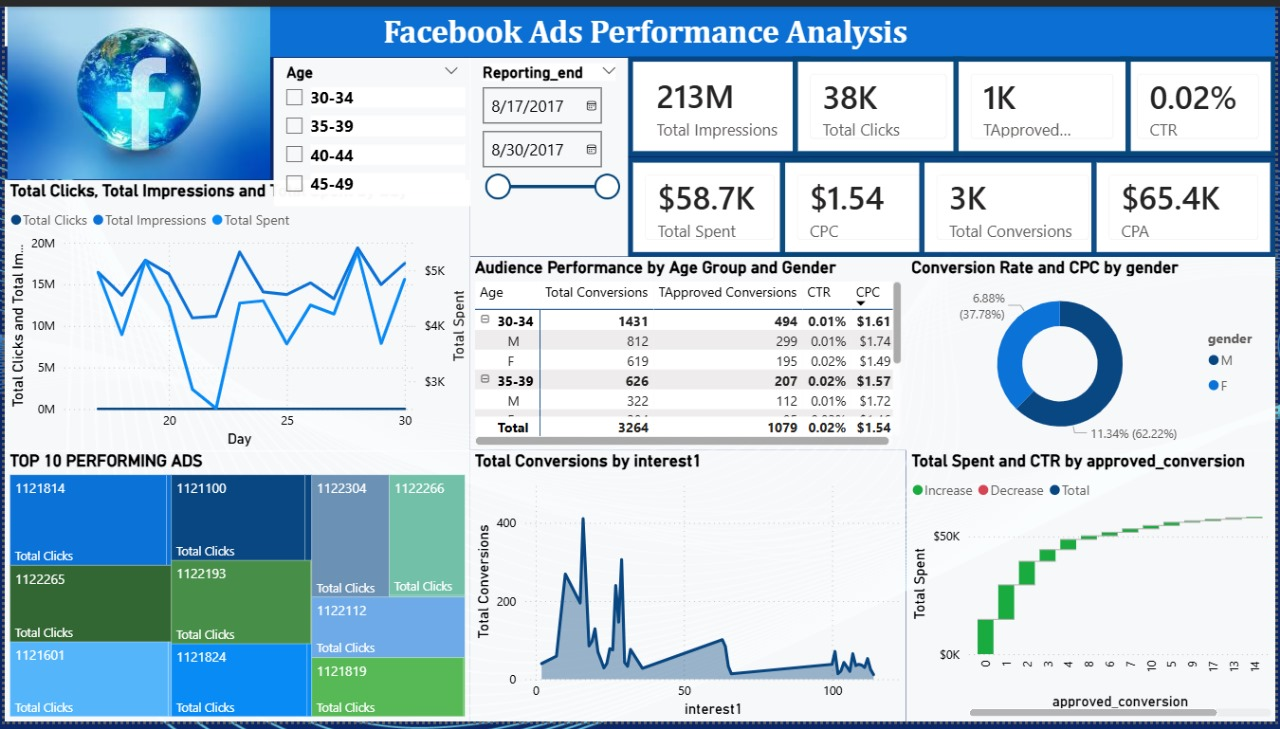

This screenshot's page, from the dashboard's own definition file:
{"tool":"powerbi","page":{"name":"Dashboard","canvas":[1280,720],"ordinal":0},"visuals":[{"type":"textbox","box":[9.8,0,1270.3,50.4],"z":0},{"type":"cardVisual","fields":{"Data":["data.Total Impressions"]},"box":[627.8,50.4,183.8,100.8],"z":1000},{"type":"cardVisual","fields":{"Data":["data.Total Clicks"]},"box":[793.8,50.4,172.4,100.8],"z":2000},{"type":"cardVisual","fields":{"Data":["data.CTR"]},"box":[1122.3,50.4,157.8,100.8],"z":3000},{"type":"cardVisual","fields":{"Data":["data.Total Spent"]},"box":[627.8,151.3,165.9,100.8],"z":4000},{"type":"cardVisual","fields":{"Data":["data.CPC"]},"box":[780.7,151.3,161,100.8],"z":5000},{"type":"cardVisual","fields":{"Data":["data.Total Conversions"]},"box":[920.6,151.3,188.7,100.8],"z":6000},{"type":"cardVisual","fields":{"Data":["data.CPA"]},"box":[1094.7,151.3,185.4,100.8],"z":7000},{"type":"lineChart","fields":{"Category":["data.reporting_end.Variation.Date Hierarchy.Day"],"Y":["data.Total Clicks","data.Total Impressions"],"Y2":["data.Total Spent"]},"box":[0,174,468.4,273.3],"z":8000},{"type":"treemap","title":"TOP 10 PERFORMING ADS","fields":{"Group":["data.ad_id"],"Values":["data.TApproved Conversions","data.Total Clicks"]},"box":[0,447.3,468.4,273.3],"z":9000},{"type":"actionButton","box":[0,0,100,40],"z":10000},{"type":"cardVisual","fields":{"Data":["data.Total Approved Conversions"]},"box":[954.8,50.4,178.9,100.8],"z":11000},{"type":"pivotTable","title":"Audience Performance by Age Group and Gender","fields":{"Rows":["data.age","data.gender"],"Values":["data.Total Conversions","data.TApproved Conversions","data.CTR","data.CPC"]},"box":[468.4,252.1,439.2,195.2],"z":12000},{"type":"stackedAreaChart","fields":{"Category":["data.interest1"],"Y":["data.Total Conversions"]},"box":[468.4,447.3,439.2,273.3],"z":13000},{"type":"donutChart","fields":{"Category":["data.gender"],"Y":["data.Conversion Rate"]},"box":[907.6,252.1,372.5,195.2],"z":14000},{"type":"image","box":[0,0,270,174],"z":15000},{"type":"waterfallChart","fields":{"Category":["data.approved_conversion"],"Y":["data.Total Spent"]},"box":[908,447,372,273],"z":16000},{"type":"slicer","fields":{"Values":["data.Age"]},"box":[270,52,198.4,122],"z":17000},{"type":"slicer","fields":{"Values":["data.reporting_end"]},"box":[468.4,52,159.4,200.1],"z":18000}]}

Visuals, with their boxes in screenshot pixels (x1, y1, x2, y2), scaled from the page's 1280x720 canvas onto the 1280x729 screenshot:
textbox: {"x1": 10, "y1": 0, "x2": 1279, "y2": 51}
cardVisual - data.Total Impressions: {"x1": 628, "y1": 51, "x2": 812, "y2": 153}
cardVisual - data.Total Clicks: {"x1": 794, "y1": 51, "x2": 966, "y2": 153}
cardVisual - data.CTR: {"x1": 1122, "y1": 51, "x2": 1279, "y2": 153}
cardVisual - data.Total Spent: {"x1": 628, "y1": 153, "x2": 794, "y2": 255}
cardVisual - data.CPC: {"x1": 781, "y1": 153, "x2": 942, "y2": 255}
cardVisual - data.Total Conversions: {"x1": 921, "y1": 153, "x2": 1109, "y2": 255}
cardVisual - data.CPA: {"x1": 1095, "y1": 153, "x2": 1279, "y2": 255}
lineChart - data.reporting_end.Variation.Date Hierarchy.Day x data.Total Clicks: {"x1": 0, "y1": 176, "x2": 468, "y2": 453}
"TOP 10 PERFORMING ADS" treemap: {"x1": 0, "y1": 453, "x2": 468, "y2": 728}
actionButton: {"x1": 0, "y1": 0, "x2": 100, "y2": 40}
cardVisual - data.Total Approved Conversions: {"x1": 955, "y1": 51, "x2": 1134, "y2": 153}
"Audience Performance by Age Group and Gender" pivotTable: {"x1": 468, "y1": 255, "x2": 908, "y2": 453}
stackedAreaChart - data.interest1 x data.Total Conversions: {"x1": 468, "y1": 453, "x2": 908, "y2": 728}
donutChart - data.gender x data.Conversion Rate: {"x1": 908, "y1": 255, "x2": 1279, "y2": 453}
image: {"x1": 0, "y1": 0, "x2": 270, "y2": 176}
waterfallChart - data.approved_conversion x data.Total Spent: {"x1": 908, "y1": 453, "x2": 1279, "y2": 728}
slicer - data.Age: {"x1": 270, "y1": 53, "x2": 468, "y2": 176}
slicer - data.reporting_end: {"x1": 468, "y1": 53, "x2": 628, "y2": 255}
